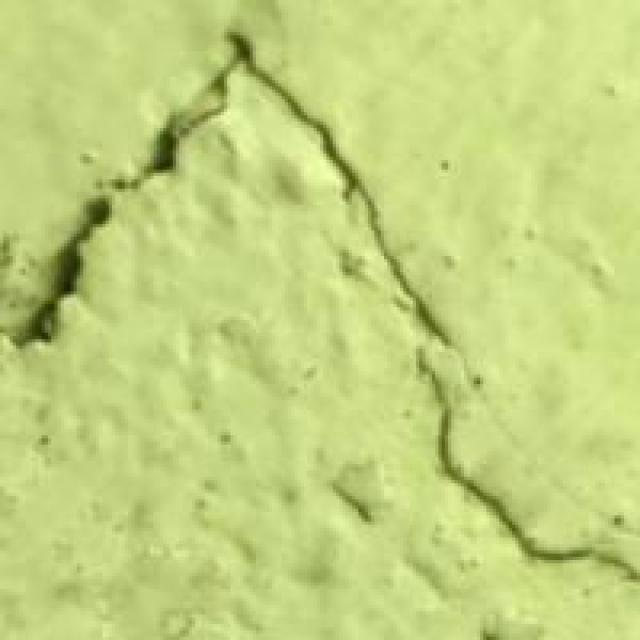crack: (16, 34, 640, 572)
